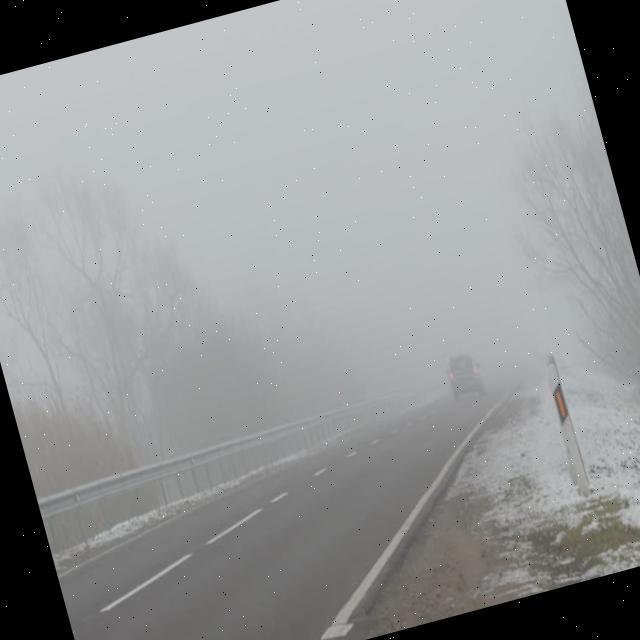car: (441, 348, 487, 402)
